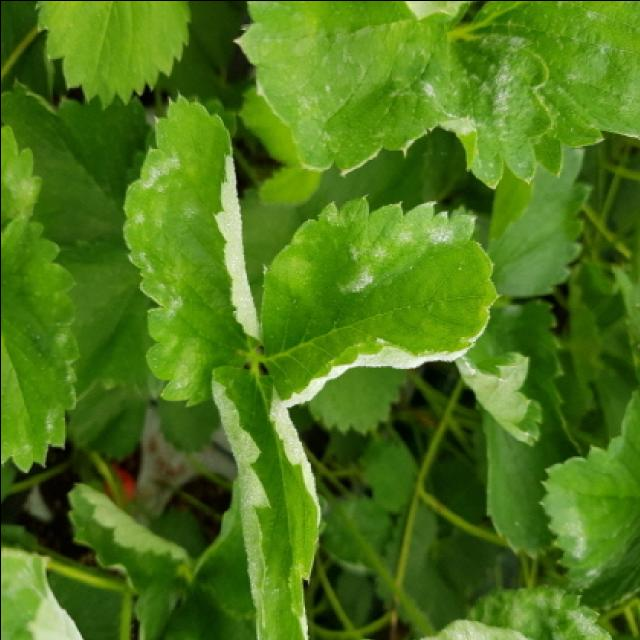Powdery Mildew Leaf: (259, 195, 501, 407), (120, 92, 265, 407), (229, 2, 470, 175), (433, 2, 640, 189), (209, 362, 323, 640), (536, 388, 640, 594), (411, 583, 616, 640)
